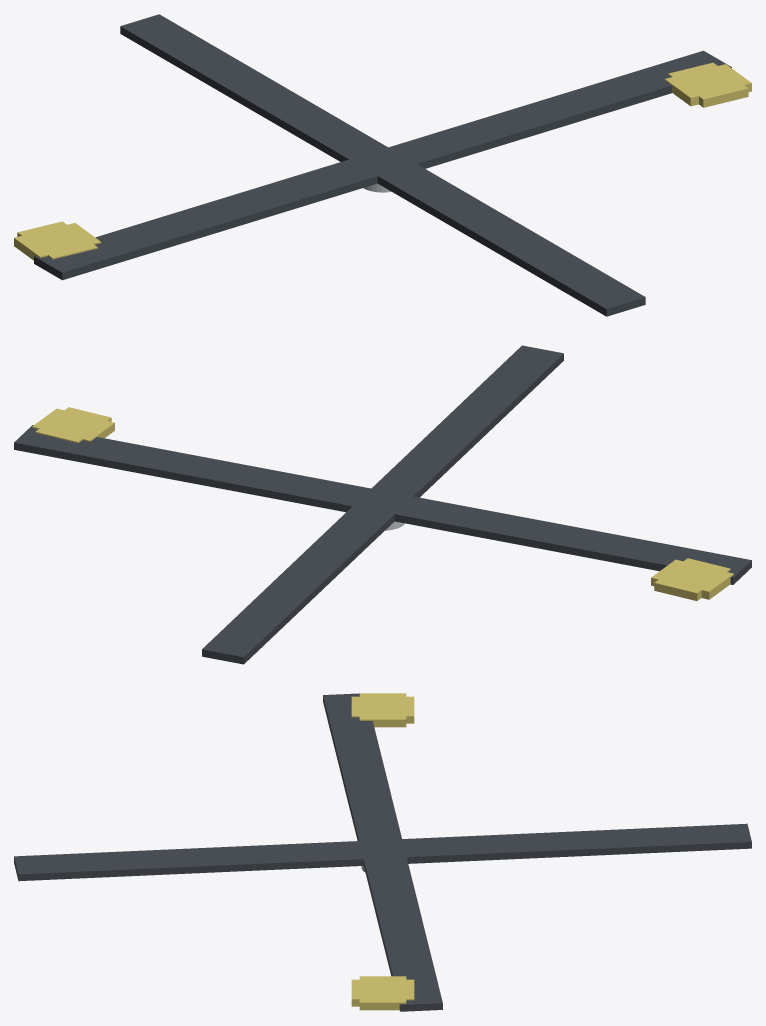
File: prop_1045_cw.glb
3 renders of one model, top to bottom at view 1: azimuth 30°, elevation 25°; view 2: azimuth 150°, elevation 25°; view 3: azimuth 270°, elevation 25°, orthographic. The views are drawn at different scales.
Visible parts, largest first — view 1: blade1, blade0, tip0_1, tip0_-1, tip1_1, tip1_-1; view 2: blade0, blade1, tip0_-1, tip0_1, tip1_-1, tip1_1; view 3: blade1, blade0, tip0_-1, tip1_1, tip0_1, tip1_-1.
Boxes of the visible parts, x1,y1,x2,y2 form: blade1: (120, 14, 645, 316); blade0: (34, 50, 731, 280); tip0_1: (664, 64, 751, 106); tip0_-1: (14, 223, 101, 260); tip1_1: (668, 62, 748, 107); tip1_-1: (17, 221, 97, 259); blade0: (14, 425, 751, 584); blade1: (202, 345, 563, 664); tip0_-1: (651, 559, 733, 599); tip0_1: (32, 408, 114, 441); tip1_-1: (654, 558, 730, 600); tip1_1: (35, 407, 111, 443); blade1: (14, 823, 751, 881); blade0: (323, 693, 442, 1011); tip0_-1: (359, 693, 406, 727); tip1_1: (351, 979, 414, 1006); tip0_1: (359, 976, 406, 1010); tip1_-1: (351, 696, 414, 723).
Size of the model in its own units: 4.45 by 0.13 by 4.45.
